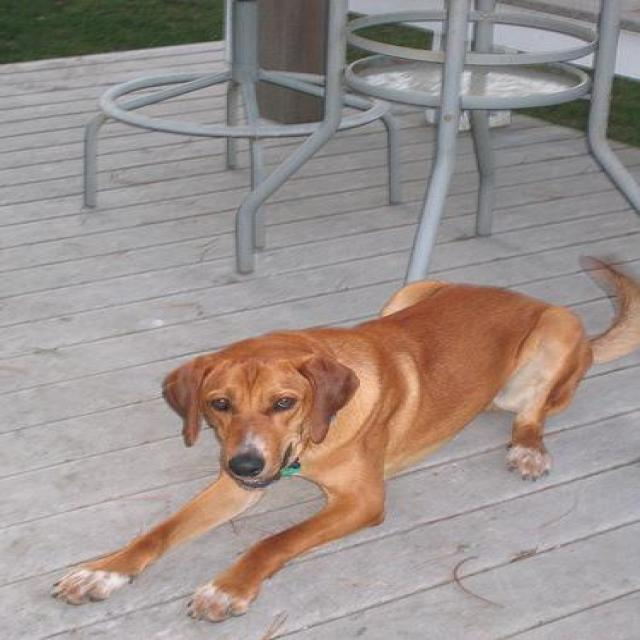good: (56, 252, 614, 606)
